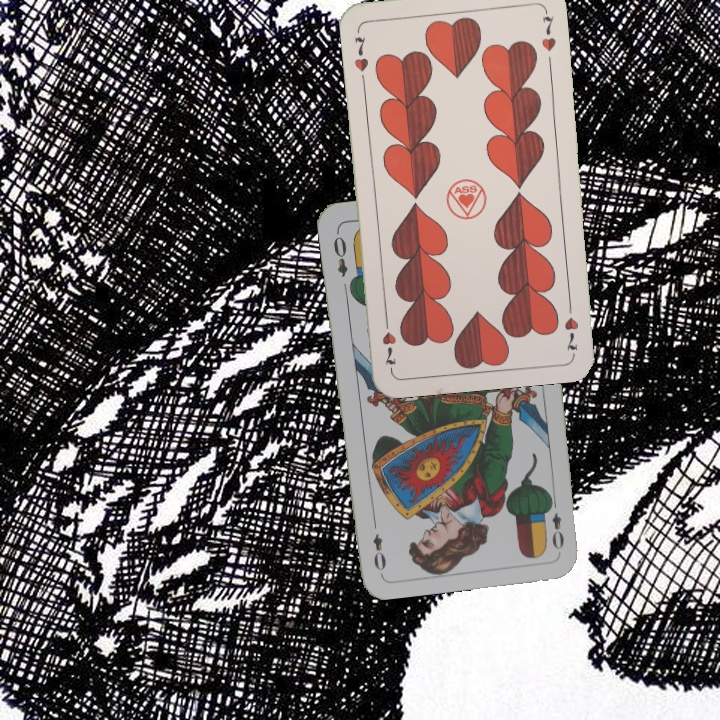EO: (544, 494, 567, 552), (329, 227, 350, 279)
H7: (560, 297, 581, 356), (350, 32, 371, 74)
